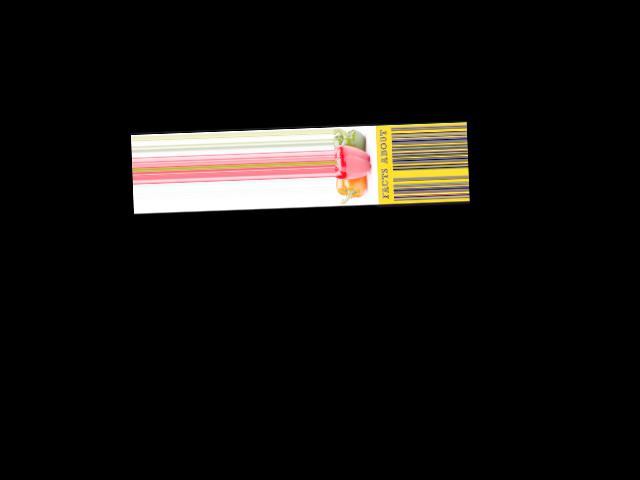bell_pepper: (333, 127, 370, 148)
